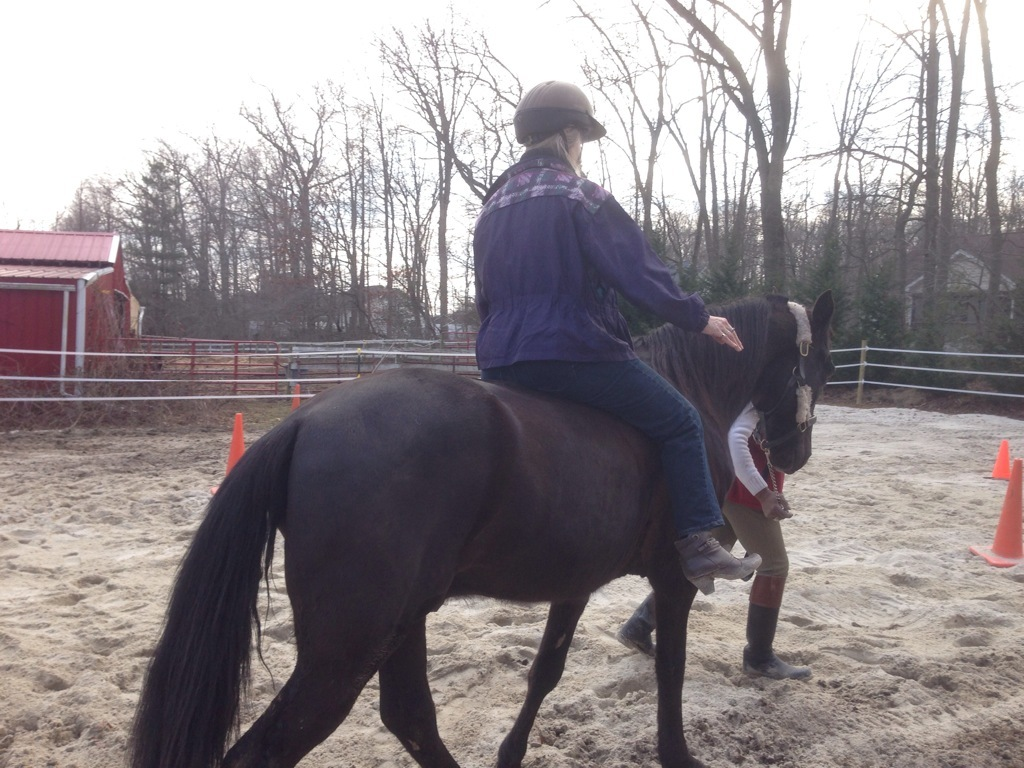Person: (473, 79, 762, 595)
